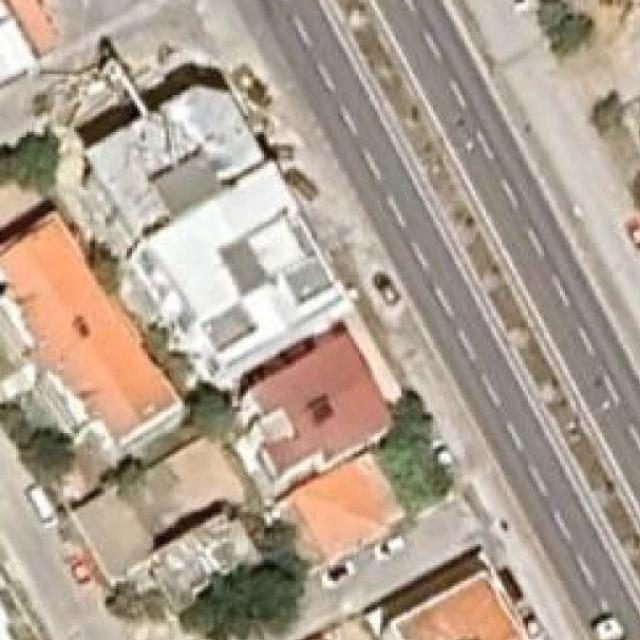Tree: (182, 559, 302, 640), (0, 124, 58, 196), (533, 0, 597, 53), (187, 384, 238, 436), (28, 431, 77, 480), (99, 452, 145, 500), (0, 394, 29, 447), (590, 93, 626, 135)
